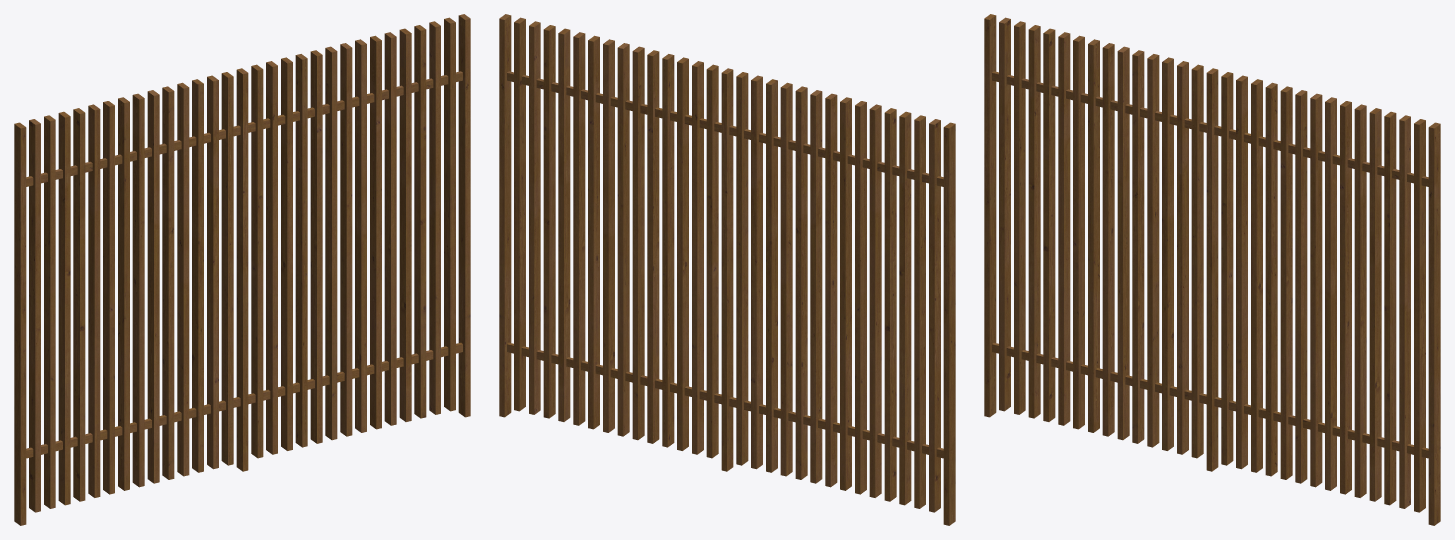
File: sg-reversible-s50_h2000_naturalpine.fbx
3 renders of one model, left to right at view 1: azimuth 30°, elevation 25°; view 2: azimuth 150°, elevation 25°; view 3: azimuth 330°, elevation 25°, orthographic.
Parts seen in each view (by area): view 1: sg-reversible-s50_h2000_naturalpine_2span; view 2: sg-reversible-s50_h2000_naturalpine_2span; view 3: sg-reversible-s50_h2000_naturalpine_2span.
Boxes of the visible parts, box(x1,y1,x2,y2) form: sg-reversible-s50_h2000_naturalpine_2span: box(14, 14, 470, 525); sg-reversible-s50_h2000_naturalpine_2span: box(499, 14, 955, 525); sg-reversible-s50_h2000_naturalpine_2span: box(984, 14, 1440, 525).
Size of the model in its own units: 243 by 205 by 6.
1 material, 1 textured.
